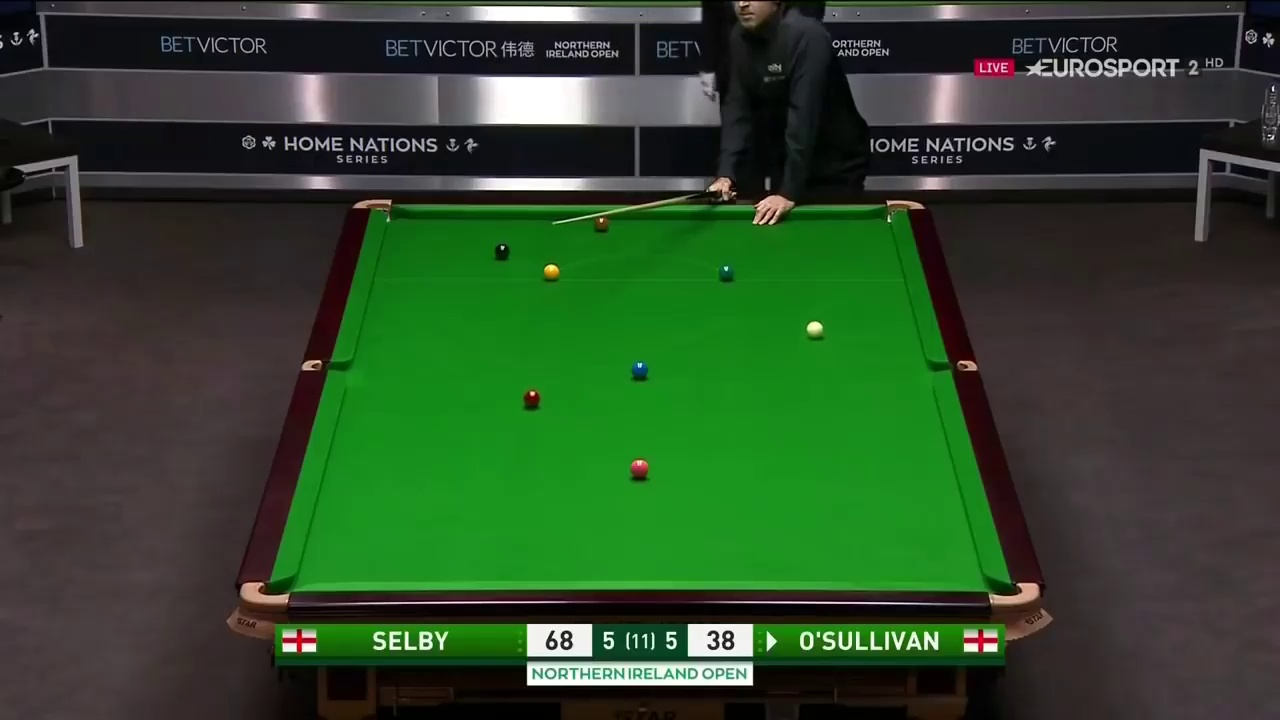black: (492, 242, 510, 259)
blue: (630, 359, 649, 377)
green: (718, 265, 737, 281)
pink: (629, 459, 651, 475)
red: (520, 389, 543, 407)
white: (804, 320, 824, 337)
yellow: (545, 262, 561, 280)
